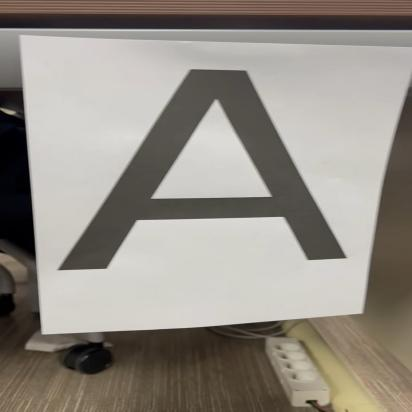seat: (45, 52, 368, 288)
